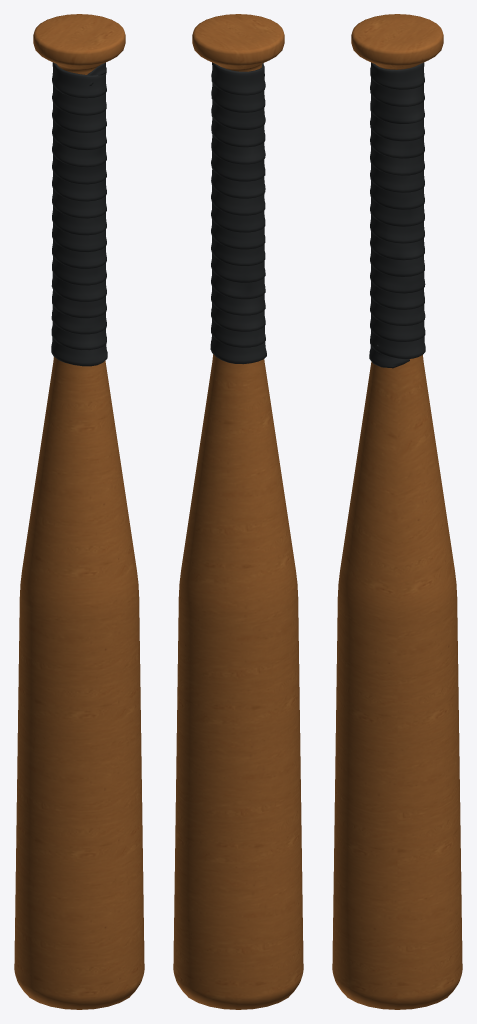
The model's file is Baseball_Bat.glb.
The picture shows the model from 3 angles, left to right: view 1: azimuth 90°, elevation 25°; view 2: azimuth 150°, elevation 25°; view 3: azimuth 270°, elevation 25°; orthographic projection.
Parts seen in each view (by area): view 1: Bat, Grip; view 2: Bat, Grip; view 3: Bat, Grip.
Boxes of the visible parts, <box> form: Bat: <box>14,14,144,1009</box>; Grip: <box>51,62,107,366</box>; Bat: <box>173,14,303,1009</box>; Grip: <box>210,62,266,364</box>; Bat: <box>332,14,462,1009</box>; Grip: <box>369,62,425,368</box>.
Size of the model in its own units: 0.0268 by 0.2173 by 0.0268.
1 material, 1 textured.
